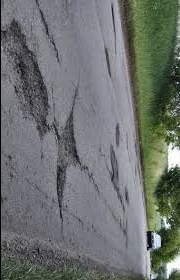pothole: (8, 18, 46, 159), (51, 94, 82, 221), (108, 141, 121, 198), (110, 2, 118, 52), (104, 46, 112, 86), (122, 219, 129, 248), (115, 123, 121, 147), (125, 186, 131, 201), (118, 216, 124, 228)
